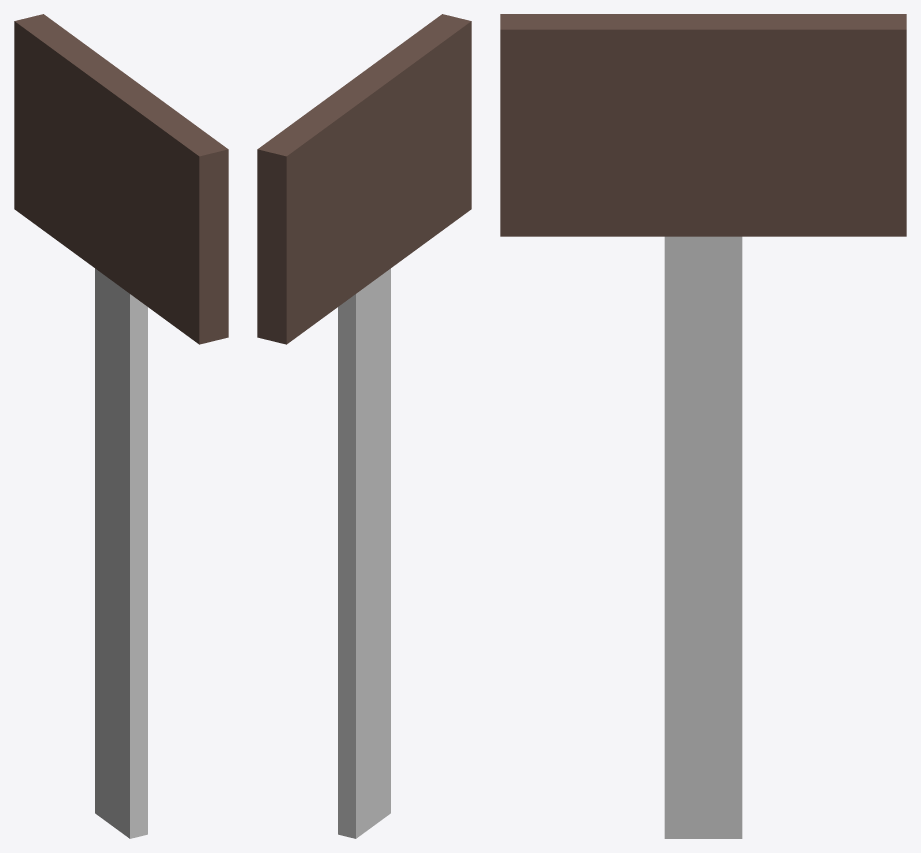
The model's file is Señaletica2.fbx.
3 renders of one model, left to right at view 1: azimuth 30°, elevation 25°; view 2: azimuth 150°, elevation 25°; view 3: azimuth 270°, elevation 25°, orthographic. The views are drawn at different scales.
Visible parts, largest first — view 1: Cube.001, Cube; view 2: Cube.001, Cube; view 3: Cube.001, Cube.
Part boxes in pixels (bbox=[...]): Cube.001: bbox=[14, 14, 228, 344]; Cube: bbox=[95, 268, 147, 838]; Cube.001: bbox=[257, 14, 471, 344]; Cube: bbox=[338, 268, 390, 838]; Cube.001: bbox=[500, 14, 906, 236]; Cube: bbox=[664, 236, 742, 838].
Bounding box in the file's own units: 16.93 × 410 × 186.
